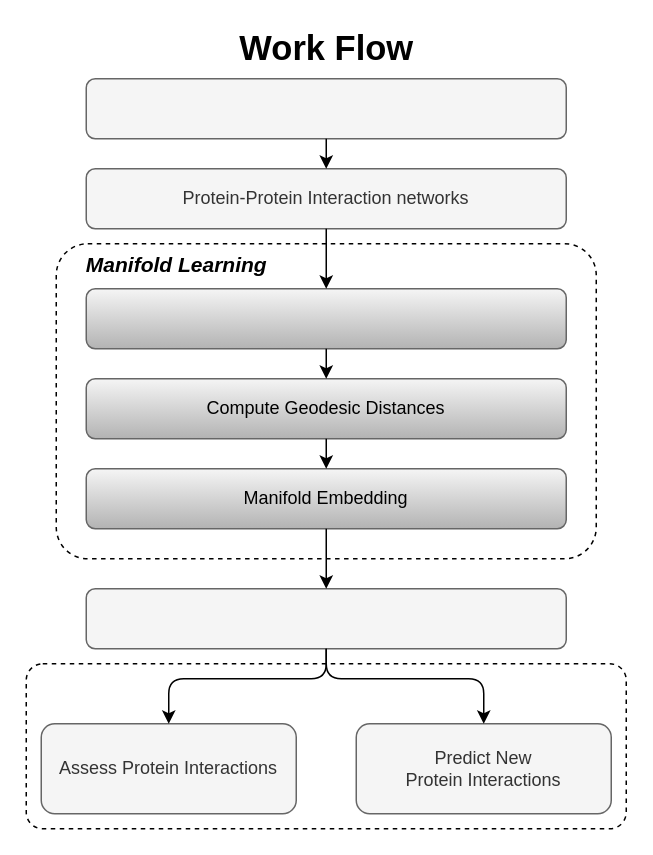
Image size: 653x855. Some labels were removed from this diagram. The centre of each missing label's shape, as x and y in pixels:
"Calculate Interacting Reliability index" goes at (325,618).
"Construct Neighborhood Graph" goes at (325,318).
"Protein-Protein Interaction List" goes at (325,108).
